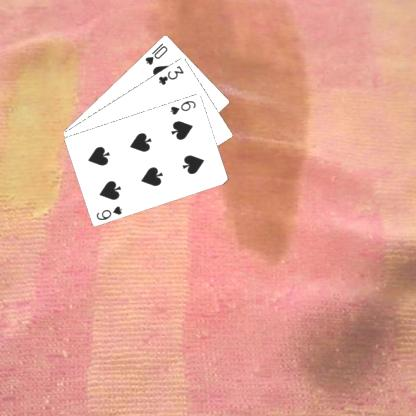10S: (142, 40, 169, 66)
3C: (156, 62, 185, 86)
6S: (93, 203, 124, 221), (168, 97, 197, 116)
